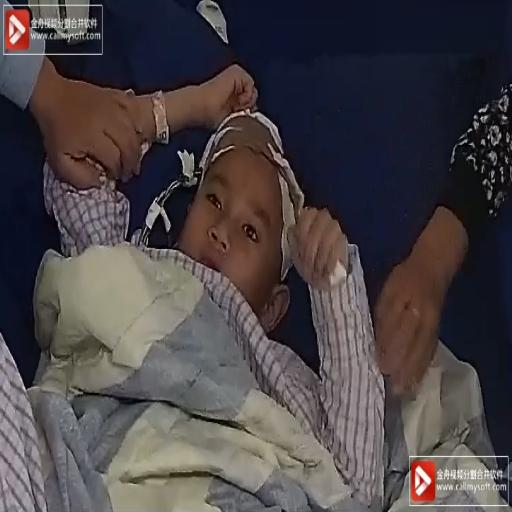Seizure: (184, 133, 294, 311)
